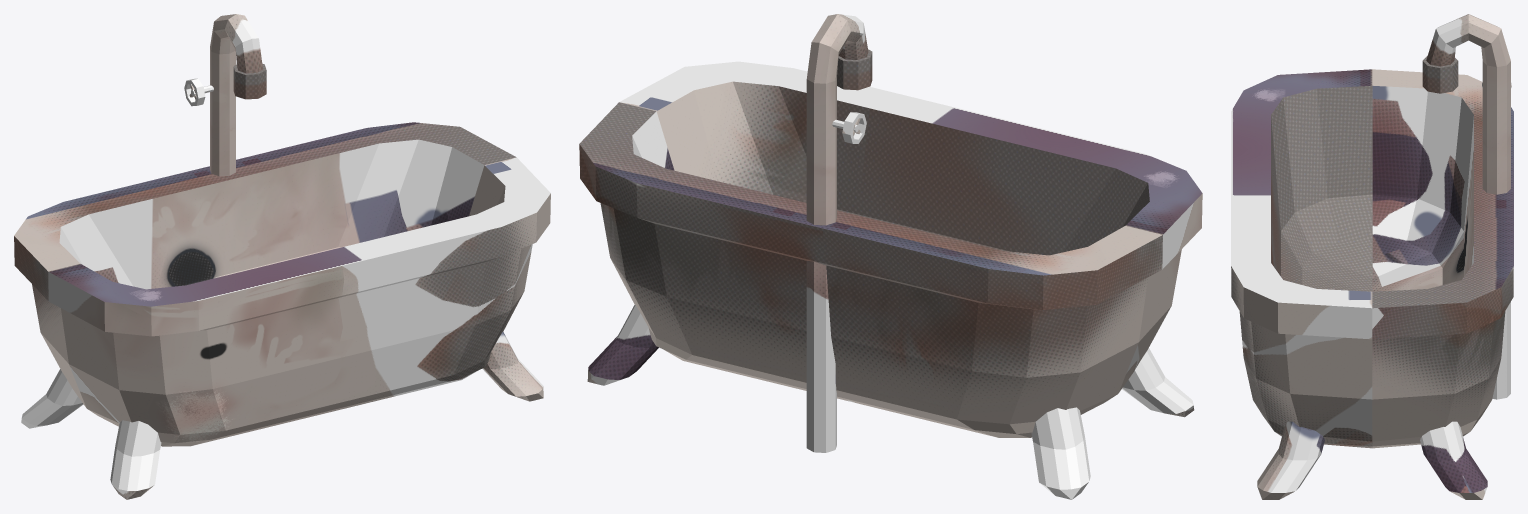
Rendered from Bathtub.obj.
The picture shows the model from 3 angles, left to right: view 1: azimuth 30°, elevation 25°; view 2: azimuth 150°, elevation 25°; view 3: azimuth 270°, elevation 25°; orthographic projection. The views are drawn at different scales.
Visible parts, largest first — view 1: Bathtub; view 2: Bathtub; view 3: Bathtub.
Boxes of the visible parts, left/top/right/bottom form: Bathtub: left=14, top=14, right=550, bottom=499; Bathtub: left=579, top=14, right=1202, bottom=499; Bathtub: left=1231, top=14, right=1513, bottom=499.
Size of the model in its own units: 2 by 1.48 by 1.
